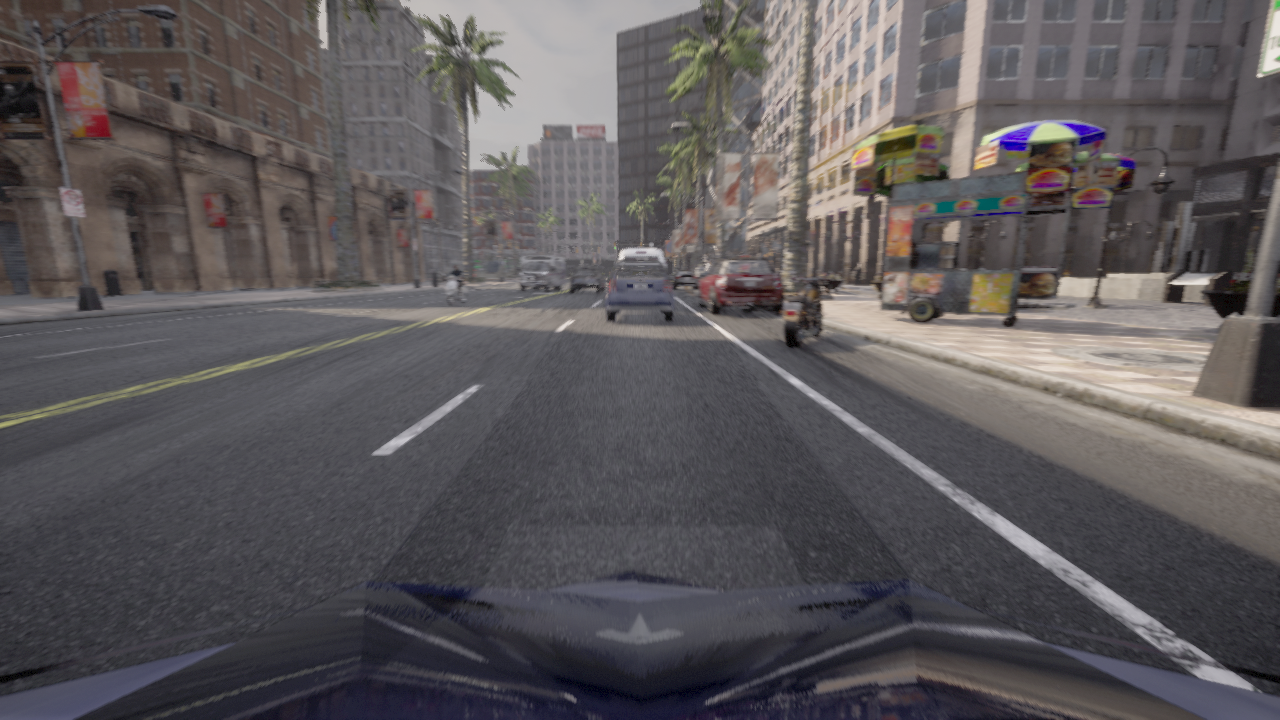cyclist: (0, 569, 1279, 719), (697, 257, 783, 314), (606, 259, 673, 321), (780, 271, 832, 347), (517, 255, 565, 291), (615, 248, 667, 271), (570, 267, 605, 292), (442, 272, 467, 305), (671, 270, 699, 289), (608, 278, 609, 280)
